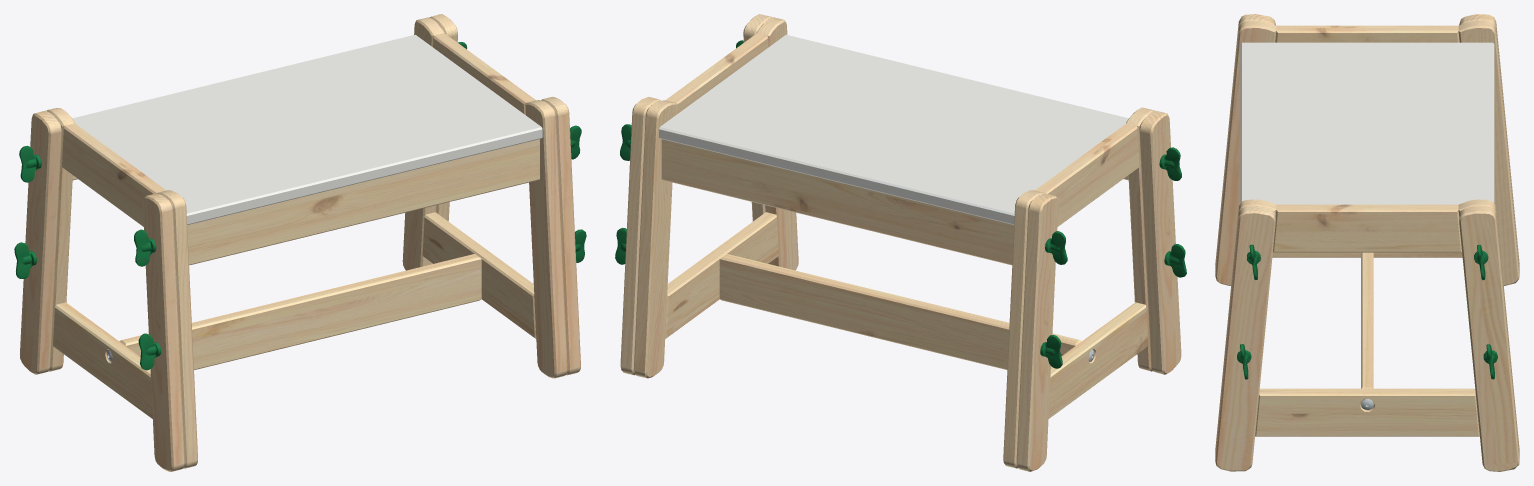
3 views of the same model, side by side, from view 1: azimuth 30°, elevation 25°; view 2: azimuth 150°, elevation 25°; view 3: azimuth 270°, elevation 25° (orthographic).
Parts seen in each view (by area): view 1: 90609178-FLISAT001; view 2: 90609178-FLISAT001; view 3: 90609178-FLISAT001.
Part boxes in pixels (box(x1,y1,x2,y2)): 90609178-FLISAT001: box(14, 14, 586, 471); 90609178-FLISAT001: box(615, 14, 1186, 471); 90609178-FLISAT001: box(1215, 14, 1519, 471).
Size of the model in its own units: 0.6032 by 0.3404 by 0.3596.
Materials: 1 (1 with a texture image).
